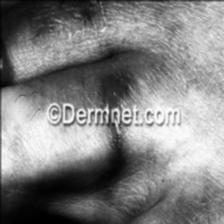Toxin: (102, 124, 124, 182)
